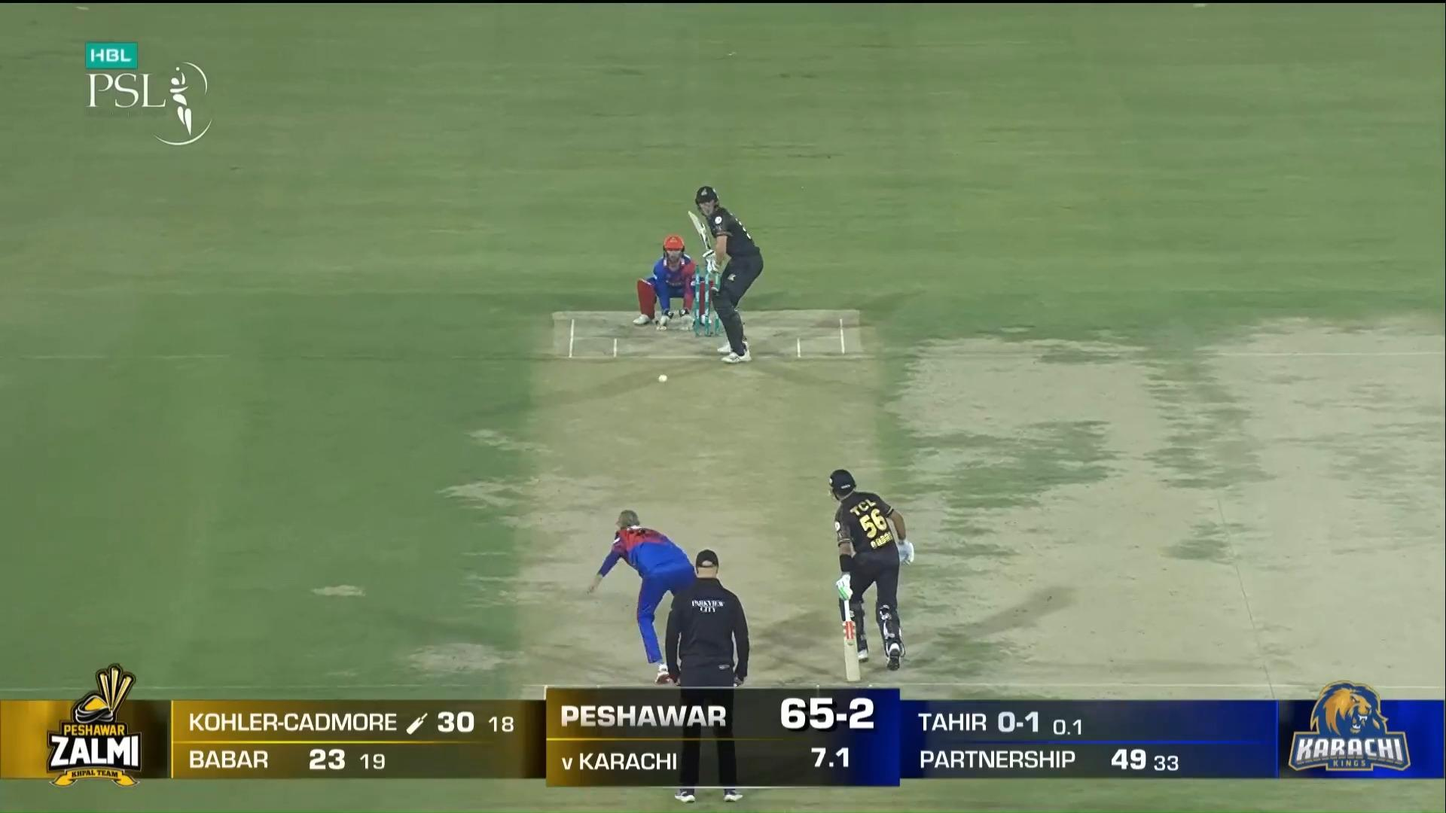batsman: (688, 184, 764, 364)
